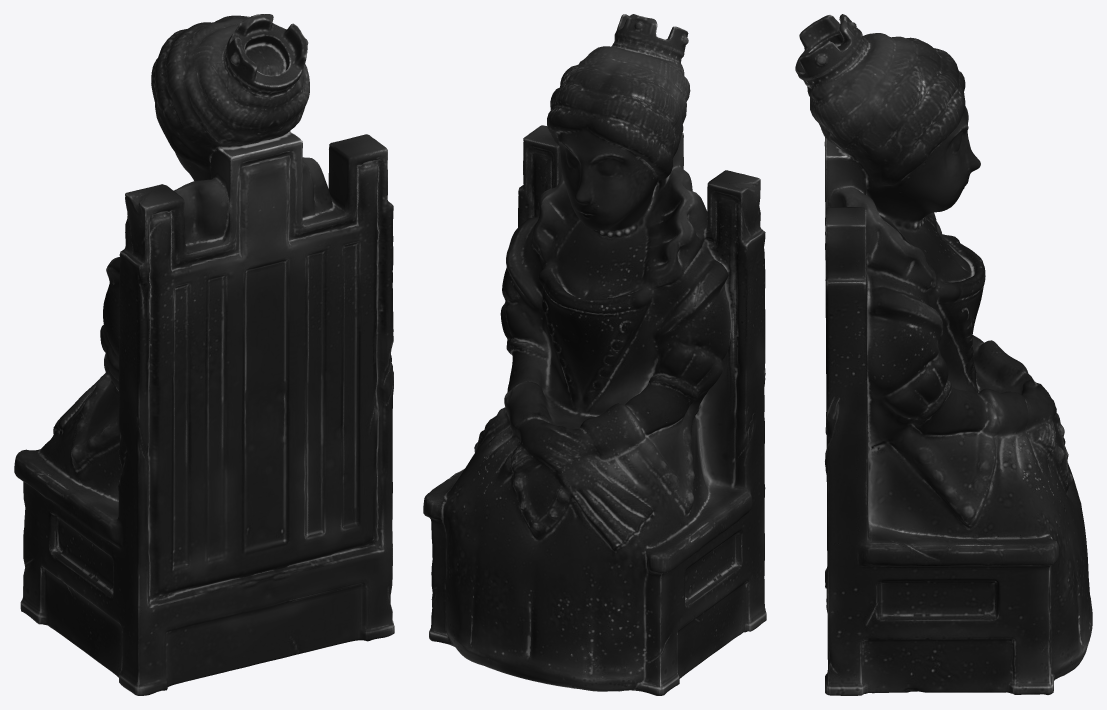
File: NegroReina_scaled.glb
The picture shows the model from 3 angles, left to right: view 1: azimuth 30°, elevation 25°; view 2: azimuth 150°, elevation 25°; view 3: azimuth 270°, elevation 25°; orthographic projection. The views are drawn at different scales.
Visible parts, largest first — view 1: Node1; view 2: Node1; view 3: Node1.
Part boxes in pixels (x1,y1,x2,y2): Node1: (14,14,394,695); Node1: (423,14,766,695); Node1: (795,14,1092,695).
Bounding box in the file's own units: 0.8647 × 1.93 × 0.84.
Materials: 1 (1 with a texture image).
